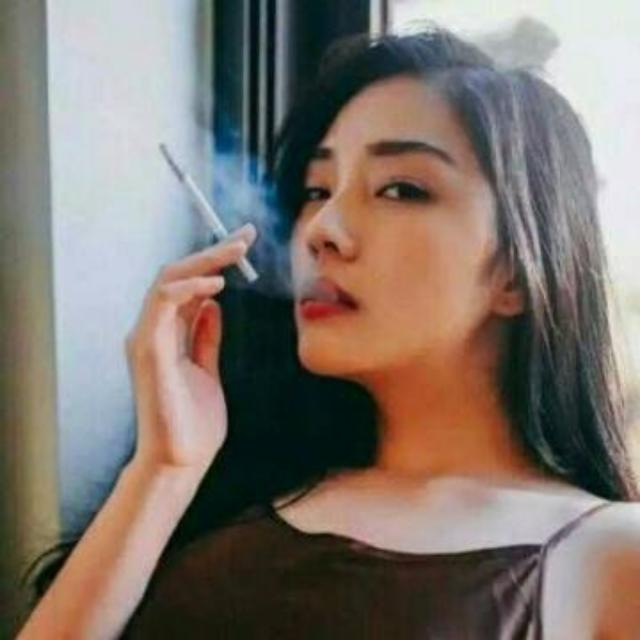SafeDriving: (358, 160, 452, 214), (290, 160, 344, 209)
Smoking: (155, 134, 265, 286)
